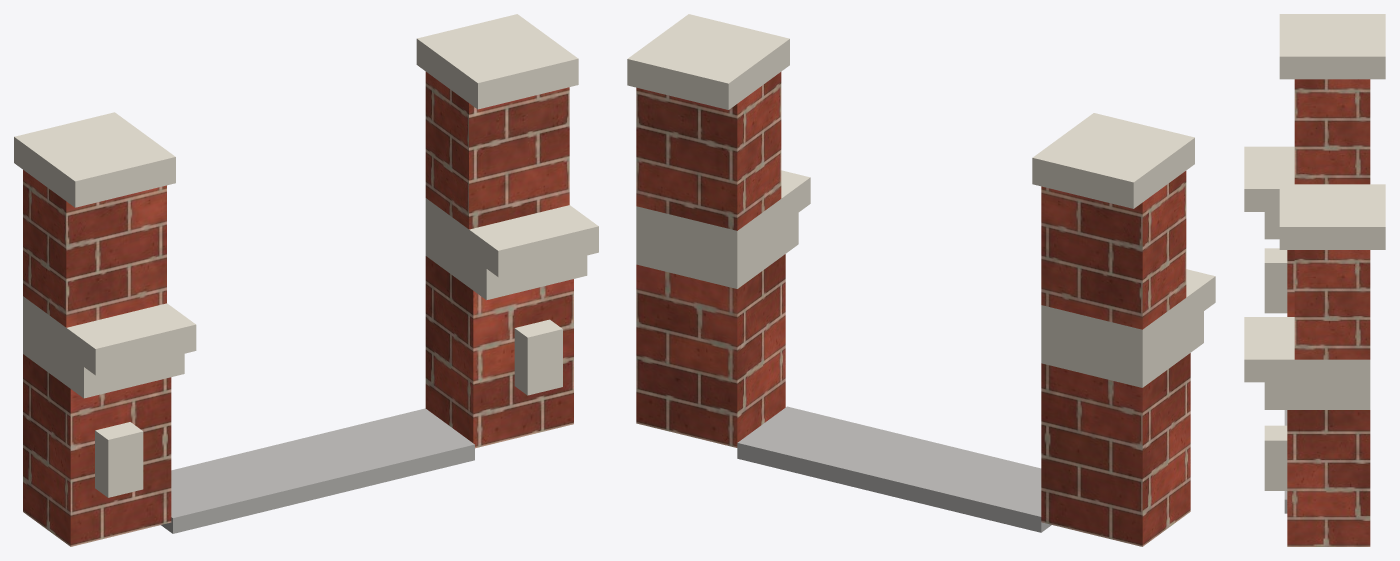
File: cornice_parapet_opening.glb
3 views of the same model, side by side, from view 1: azimuth 30°, elevation 25°; view 2: azimuth 150°, elevation 25°; view 3: azimuth 270°, elevation 25° (orthographic). The views are drawn at different scales.
Visible parts, largest first — view 1: cornice_parapet_opening_brick, cornice_parapet_opening_trim, cornice_parapet_opening_roof; view 2: cornice_parapet_opening_brick, cornice_parapet_opening_trim, cornice_parapet_opening_roof; view 3: cornice_parapet_opening_trim, cornice_parapet_opening_brick.
Boxes of the visible parts, x1,y1,x2,y2 form: cornice_parapet_opening_brick: (23,72,573,546); cornice_parapet_opening_trim: (14,14,598,497); cornice_parapet_opening_roof: (161,408,474,533); cornice_parapet_opening_brick: (636,72,1190,546); cornice_parapet_opening_trim: (627,14,1215,387); cornice_parapet_opening_roof: (737,406,1051,532); cornice_parapet_opening_trim: (1244,14,1385,490); cornice_parapet_opening_brick: (1287,79,1370,546).
Bounding box in the file's own units: 2 × 1.44 × 0.56.
3 materials, 1 textured.
